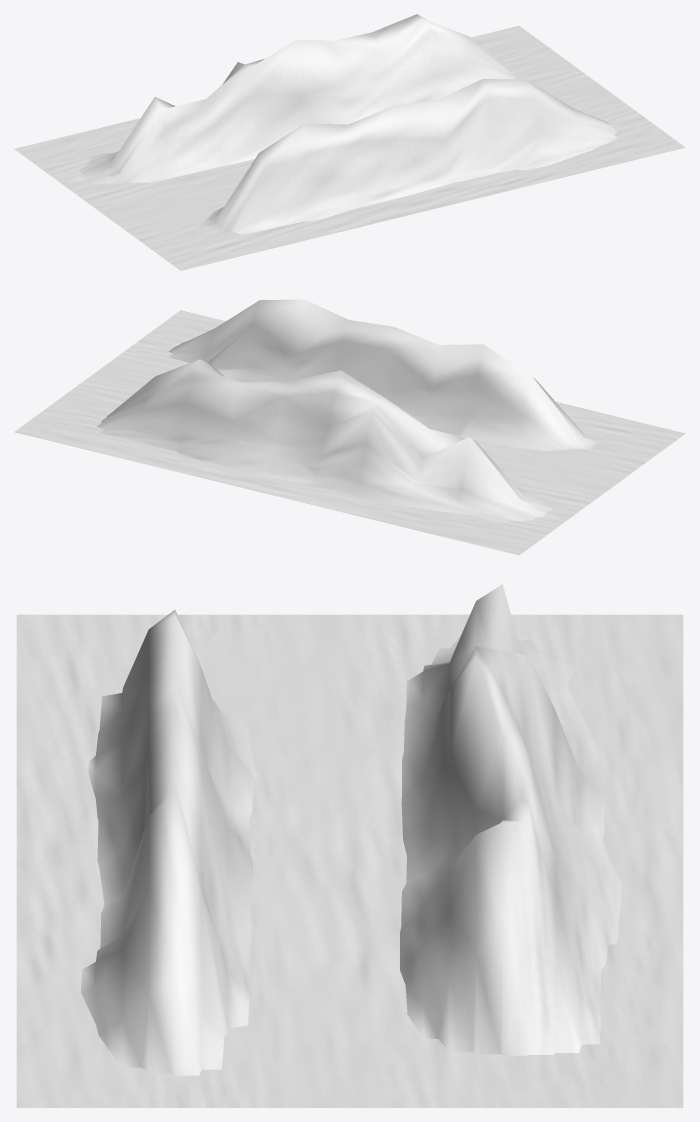
Rendered from mountain03.FBX.
3 views of the same model, one above another, from view 1: azimuth 30°, elevation 25°; view 2: azimuth 150°, elevation 25°; view 3: azimuth 270°, elevation 25° (orthographic). The views are drawn at different scales.
Visible parts, largest first — view 1: LD2; view 2: LD2; view 3: LD2.
Part boxes in pixels (x1,y1,x2,y2): LD2: [14, 14, 685, 270]; LD2: [14, 299, 685, 555]; LD2: [16, 584, 683, 1107].
Size of the model in its own units: 700 by 121 by 400.
Materials: 1 (1 with a texture image).
